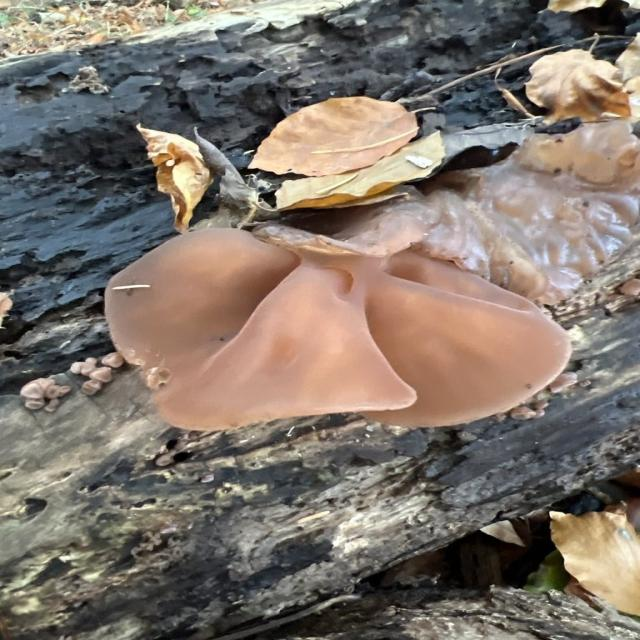Fase Muda: (256, 113, 640, 308)
Matang: (101, 228, 577, 434)
